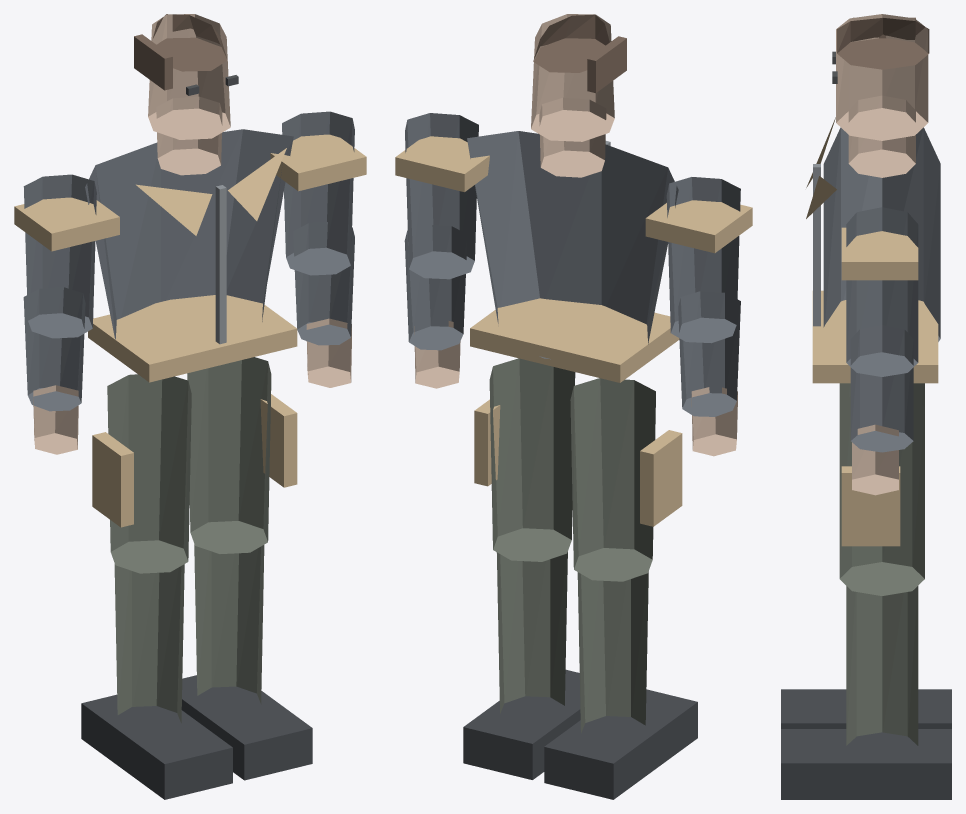
Rendered from mystery_character_ember.glb.
3 views of the same model, side by side, from view 1: azimuth 30°, elevation 25°; view 2: azimuth 150°, elevation 25°; view 3: azimuth 270°, elevation 25° (orthographic). The views are drawn at different scales.
Visible parts, largest first — view 1: Jacket, Thigh.R, Thigh.L, Hem, Shoe.L, Shin.R, Shin.L, Shoe.R, UpperArm.R, UpperArm.L, Forearm.L, Head (+12 smaller); view 2: Jacket, Thigh.R, Thigh.L, Hem, Shoe.L, Shin.L, Shin.R, Shoe.R, UpperArm.R, UpperArm.L, Forearm.L, Forearm.R (+10 smaller); view 3: Shoe.R, Jacket, Shin.R, Thigh.R, UpperArm.R, Head, Forearm.R, Hem, Shoe.L, Hair, Pocket.R, Band.R (+5 smaller).
Part boxes in pixels (bbox=[...]): Jacket: bbox=[85, 129, 293, 339]; Thigh.R: bbox=[187, 357, 271, 553]; Thigh.L: bbox=[107, 374, 191, 573]; Hem: bbox=[88, 295, 297, 382]; Shoe.L: bbox=[81, 694, 232, 799]; Shin.R: bbox=[194, 544, 264, 704]; Shin.L: bbox=[114, 564, 184, 723]; Shoe.R: bbox=[181, 675, 312, 780]; UpperArm.R: bbox=[282, 111, 354, 275]; UpperArm.L: bbox=[23, 174, 96, 338]; Forearm.L: bbox=[23, 287, 85, 411]; Head: bbox=[148, 14, 230, 139]; Jacket: bbox=[467, 131, 678, 359]; Thigh.R: bbox=[489, 358, 575, 561]; Thigh.L: bbox=[570, 378, 655, 581]; Hem: bbox=[470, 298, 679, 382]; Shoe.L: bbox=[544, 689, 697, 799]; Shin.L: bbox=[577, 571, 648, 733]; Shin.R: bbox=[496, 552, 567, 713]; Shoe.R: bbox=[463, 669, 580, 779]; UpperArm.R: bbox=[405, 113, 478, 279]; UpperArm.L: bbox=[666, 177, 740, 343]; Forearm.L: bbox=[678, 291, 740, 416]; Forearm.R: bbox=[404, 225, 467, 350]; Shoe.R: bbox=[781, 729, 951, 799]; Jacket: bbox=[823, 127, 940, 341]; Shin.R: bbox=[846, 586, 918, 745]; Thigh.R: bbox=[839, 396, 924, 595]; UpperArm.R: bbox=[846, 207, 918, 376]; Head: bbox=[836, 14, 928, 140]; Forearm.R: bbox=[850, 325, 913, 452]; Hem: bbox=[812, 290, 938, 383]; Shoe.L: bbox=[781, 689, 951, 728]; Hair: bbox=[837, 18, 929, 69]; Pocket.R: bbox=[841, 466, 900, 546]; Band.R: bbox=[841, 227, 918, 280].
Bounding box in the file's own units: 0.86 × 1.8 × 0.38.
